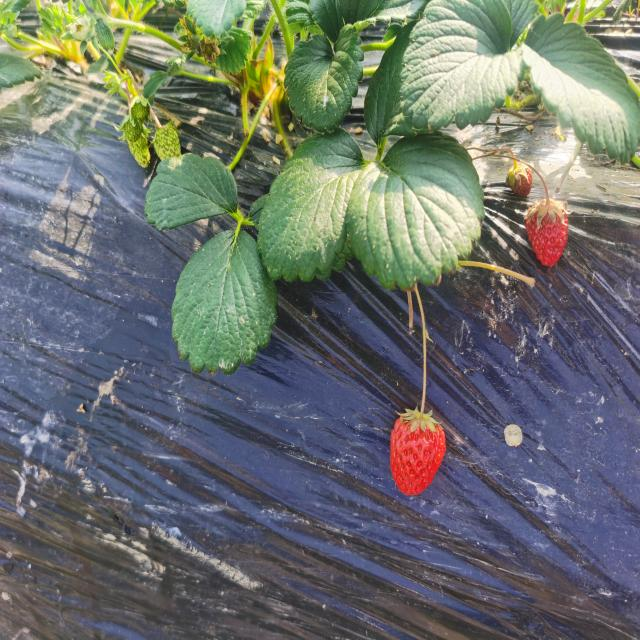stem: (539, 175, 551, 207), (419, 385, 426, 422), (508, 149, 515, 158), (513, 161, 518, 170)
strawberry: (391, 411, 446, 495), (526, 198, 568, 266), (507, 163, 532, 197)
